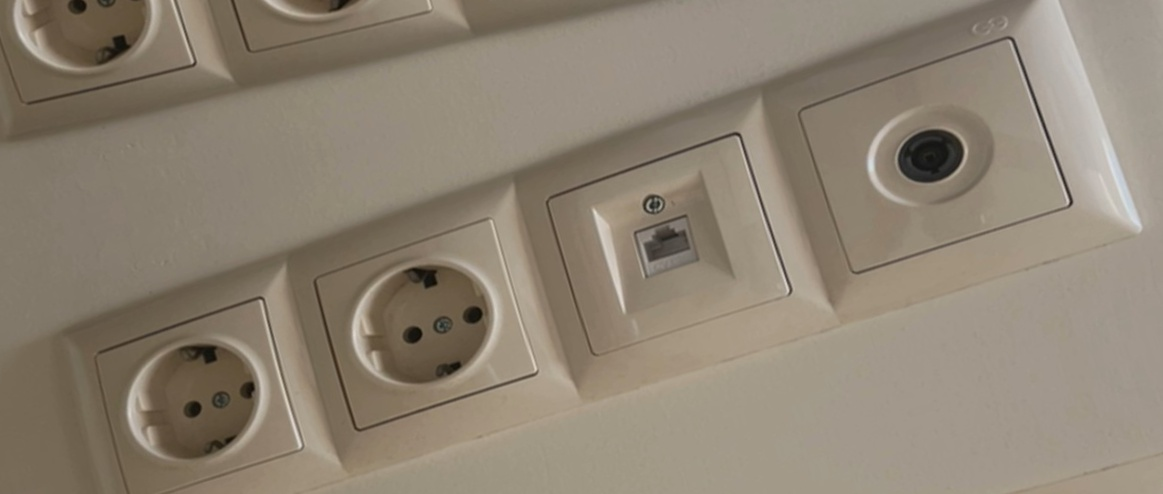Network Outlet: (586, 181, 746, 306)
Power Outlet: (348, 257, 504, 392), (121, 334, 275, 461)
TV Socket: (859, 94, 999, 214)
